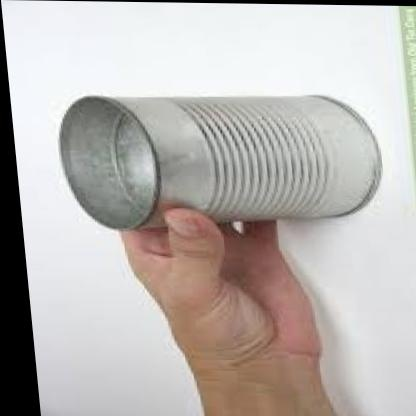trash: (60, 96, 381, 228)
